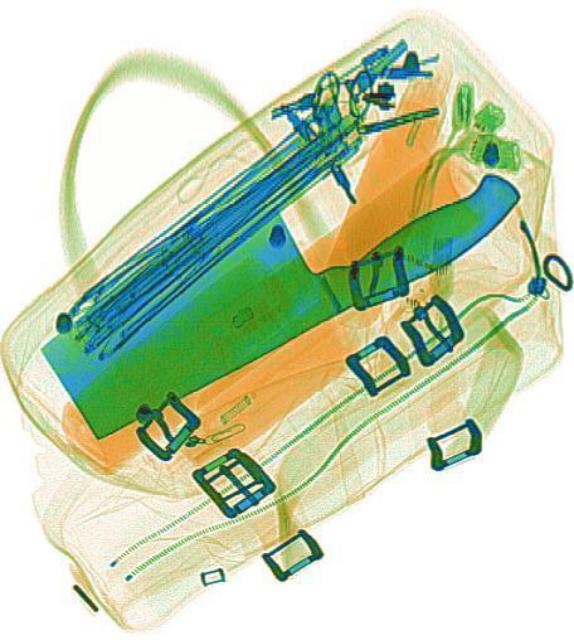Knife: (28, 98, 526, 446)
